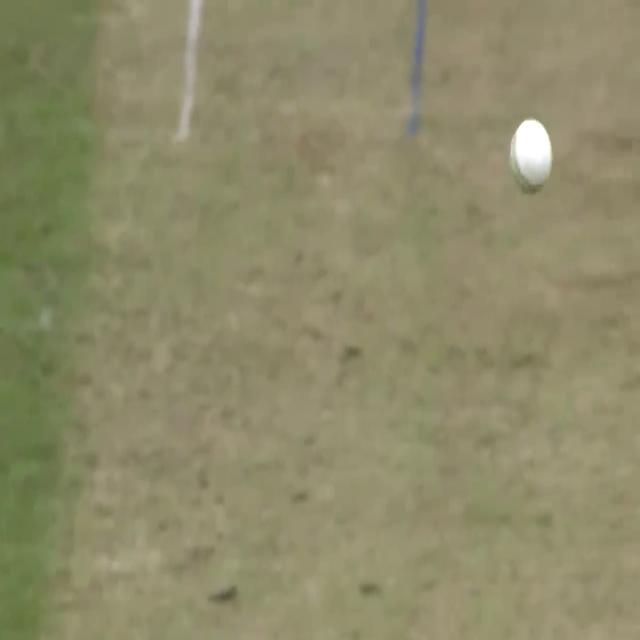ball: (503, 116, 557, 200)
